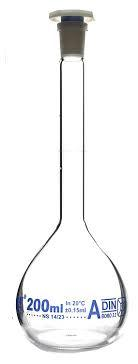Volumetric flask: (11, 13, 129, 347)
